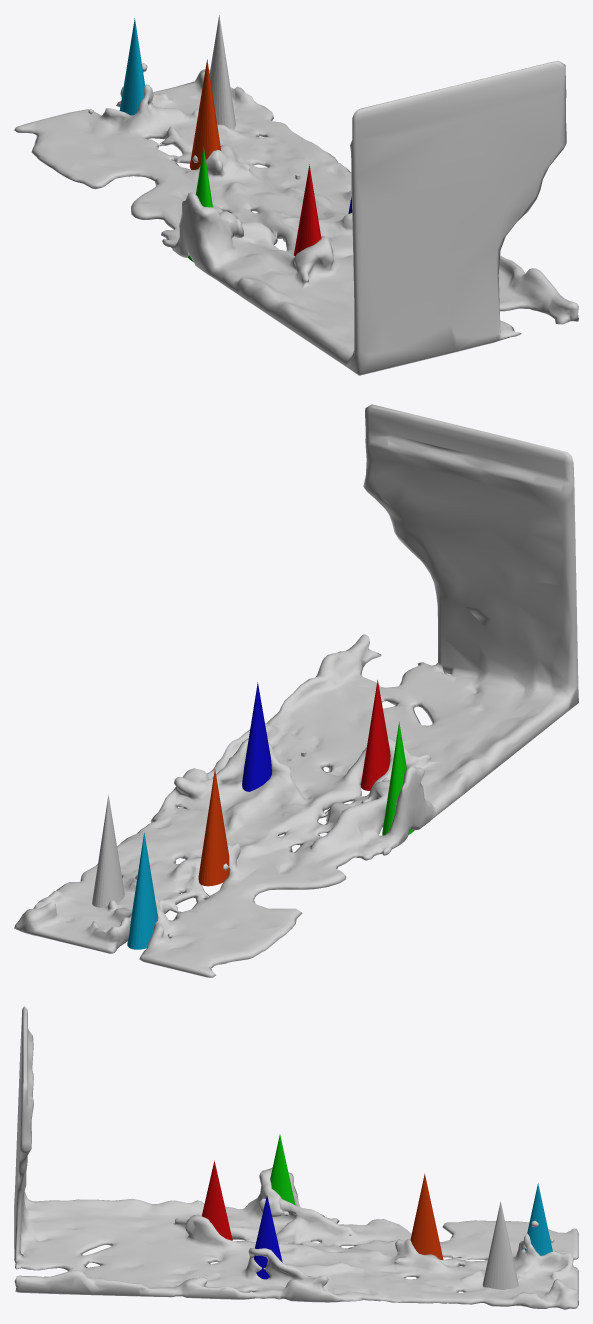
3 views of the same model, one above another, from view 1: azimuth 30°, elevation 25°; view 2: azimuth 150°, elevation 25°; view 3: azimuth 270°, elevation 25° (orthographic). The views are drawn at different scales.
Parts seen in each view (by area): view 1: Liquid_Domain, 円錐, 円錐.004, 円錐.005, 円錐.001, 円錐.003; view 2: Liquid_Domain, 円錐.004, 円錐, 円錐.005, 円錐.002, 円錐.001, 円錐.003; view 3: Liquid_Domain, 円錐, 円錐.004, 円錐.001, 円錐.002, 円錐.005, 円錐.003.
Part boxes in pixels (x1=…): Liquid_Domain: x1=14, y1=60, x2=578, y2=375; 円錐: x1=209, y1=15, x2=235, y2=129; 円錐.004: x1=190, y1=59, x2=221, y2=169; 円錐.005: x1=119, y1=18, x2=144, y2=115; 円錐.001: x1=294, y1=164, x2=321, y2=256; 円錐.003: x1=187, y1=147, x2=212, y2=262; Liquid_Domain: x1=14, y1=404, x2=578, y2=977; 円錐.004: x1=198, y1=769, x2=229, y2=886; 円錐: x1=92, y1=794, x2=124, y2=907; 円錐.005: x1=127, y1=833, x2=158, y2=949; 円錐.002: x1=242, y1=682, x2=271, y2=791; 円錐.001: x1=360, y1=680, x2=390, y2=790; 円錐.003: x1=382, y1=722, x2=414, y2=835; Liquid_Domain: x1=14, y1=1006, x2=578, y2=1309; 円錐: x1=482, y1=1201, x2=518, y2=1289; 円錐.004: x1=410, y1=1173, x2=443, y2=1259; 円錐.001: x1=202, y1=1160, x2=232, y2=1240; 円錐.002: x1=254, y1=1195, x2=282, y2=1279; 円錐.005: x1=524, y1=1183, x2=552, y2=1255; 円錐.003: x1=270, y1=1134, x2=295, y2=1204.
Bounding box in the file's own units: 129 × 158 × 361.
